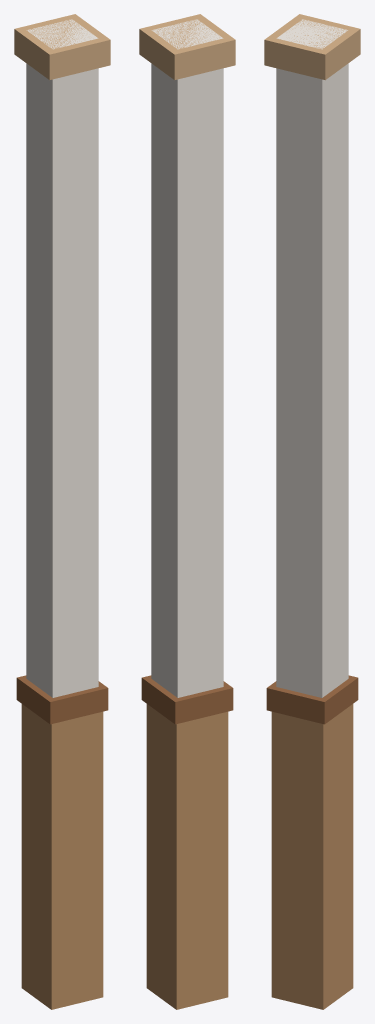
The model's file is wall_corner.glb.
3 renders of one model, left to right at view 1: azimuth 30°, elevation 25°; view 2: azimuth 210°, elevation 25°; view 3: azimuth 330°, elevation 25°, orthographic.
Visible parts, largest first — view 1: wall_corner; view 2: wall_corner; view 3: wall_corner.
Boxes of the visible parts, x1=… form: wall_corner: x1=14, y1=14, x2=110, y2=1009; wall_corner: x1=139, y1=14, x2=235, y2=1009; wall_corner: x1=264, y1=14, x2=360, y2=1009.
Bounding box in the file's own units: 0.2 × 3 × 0.2.
Materials: 1 (1 with a texture image).
